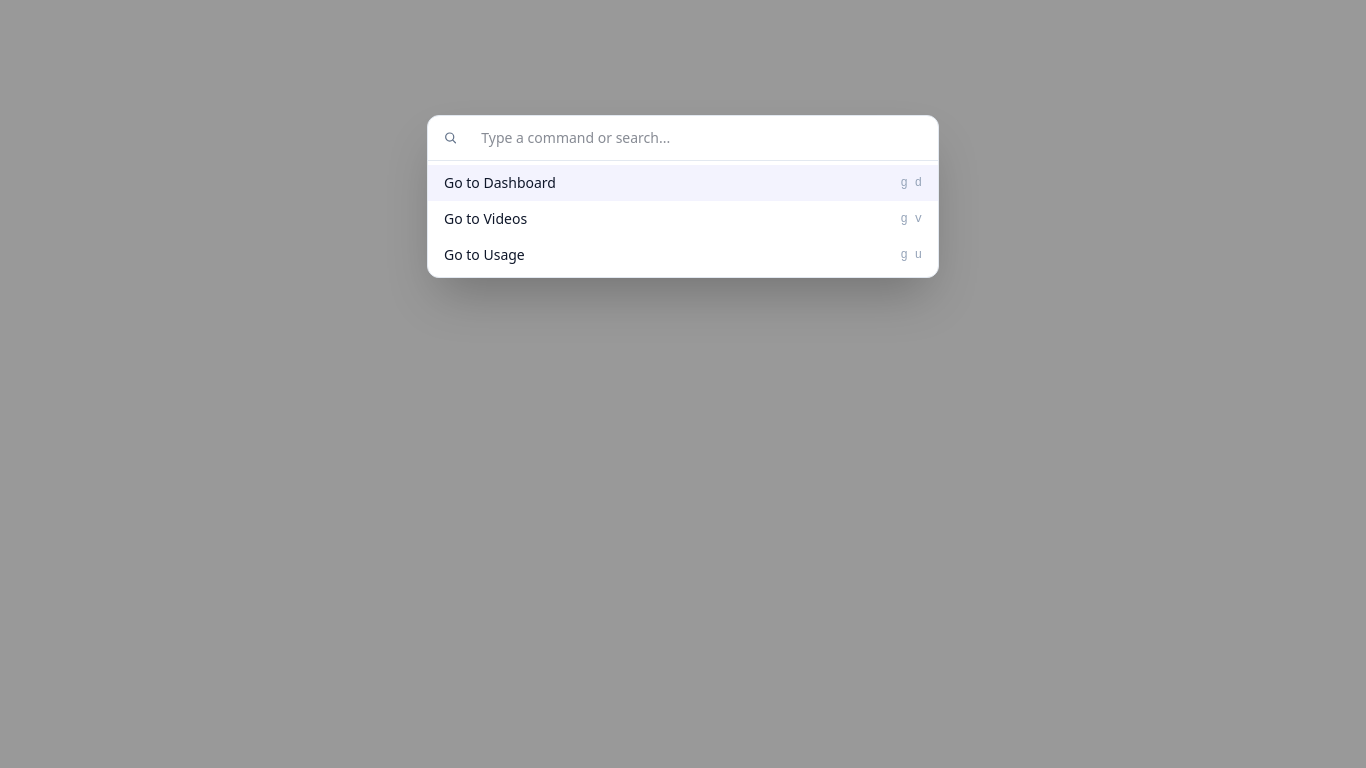
Test: CommandPalette › should filter by label substring
Type "videos" into the field at (694, 138), box [465,116,922,160]
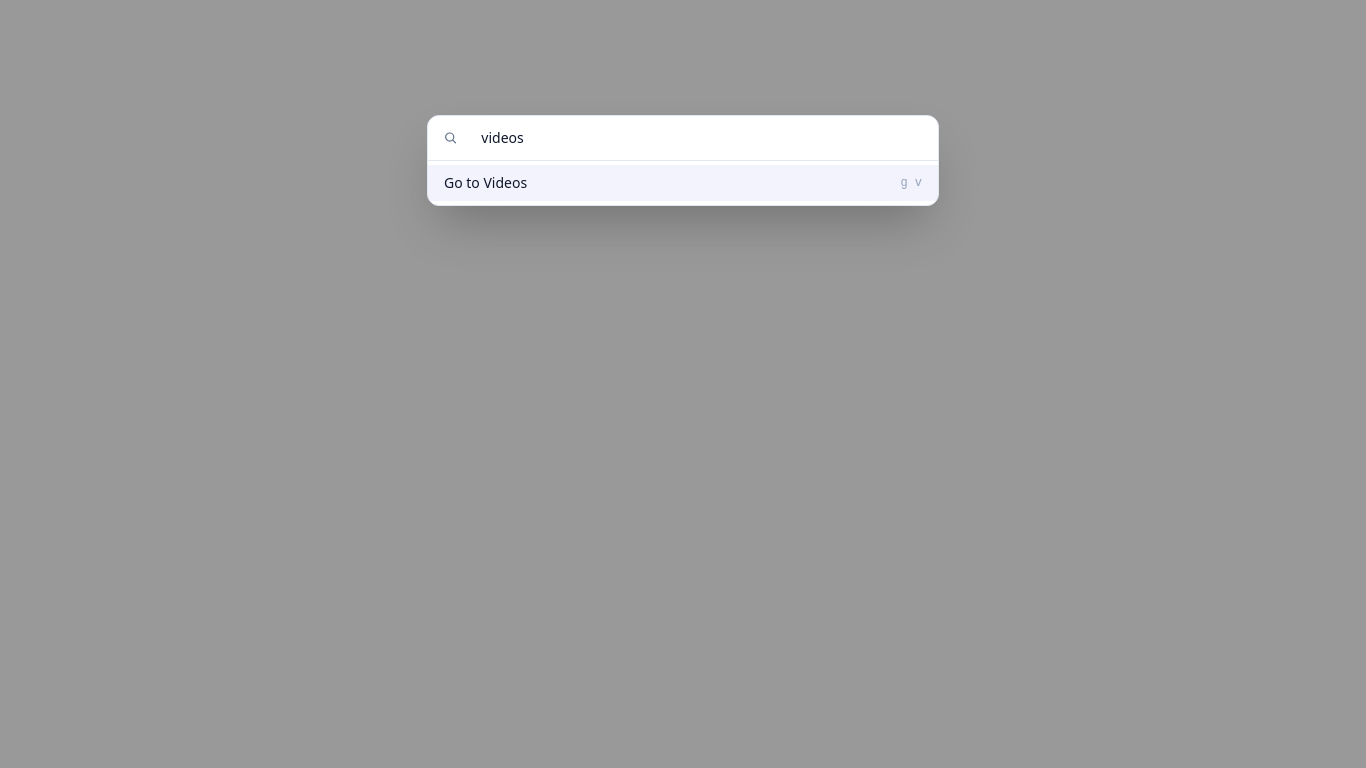
Expected: the text "Go to Videos" is shown, [444,173,527,193]
Expected: the button "Go to Dashboard" is gone
